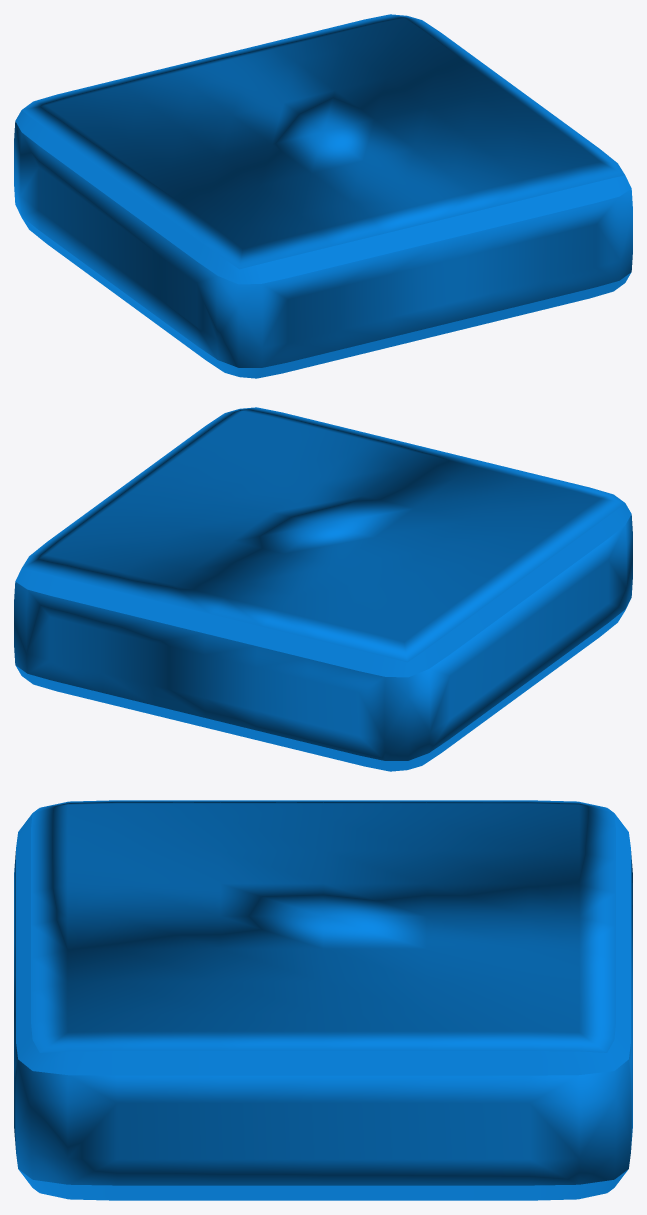
The model's file is sm_simplecar.fbx.
The picture shows the model from 3 angles, top to bottom: view 1: azimuth 30°, elevation 25°; view 2: azimuth 150°, elevation 25°; view 3: azimuth 270°, elevation 25°; orthographic projection. The views are drawn at different scales.
Visible parts, largest first — view 1: sm_simplecar; view 2: sm_simplecar; view 3: sm_simplecar.
Part boxes in pixels (box(x1,y1,x2,y2)): sm_simplecar: box(14, 14, 632, 378); sm_simplecar: box(14, 407, 632, 771); sm_simplecar: box(14, 800, 632, 1200).
Size of the model in its own units: 1 by 0.3 by 1.
